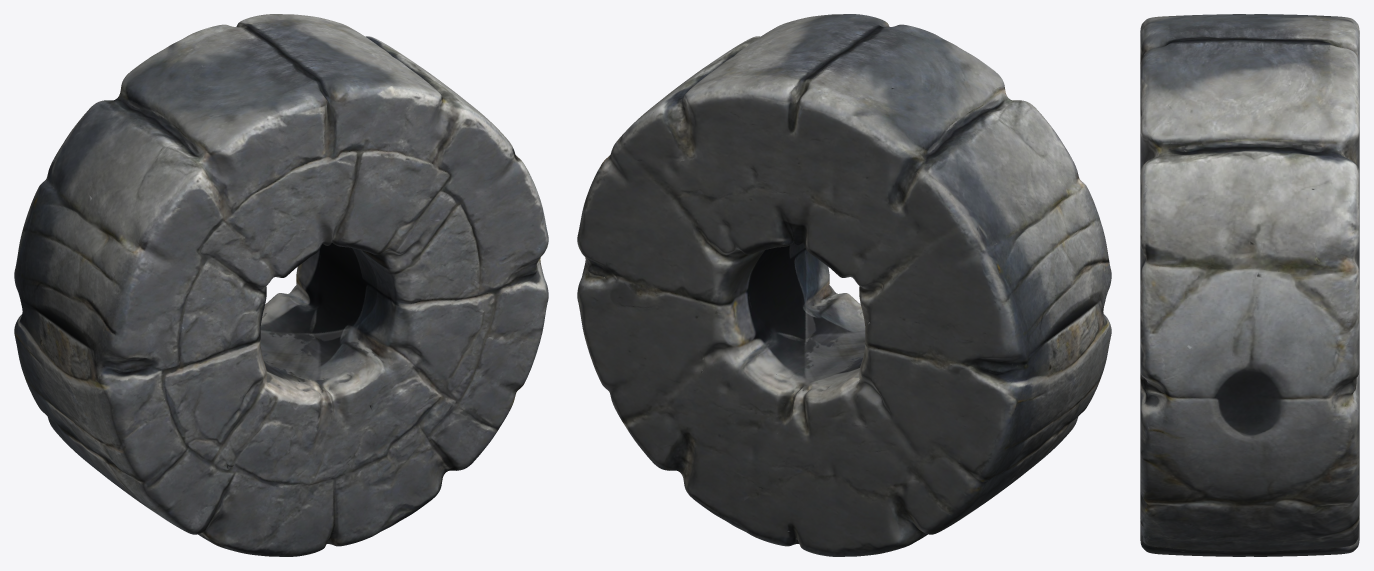
Rendered from a205_degirmen_tasi.glb.
The picture shows the model from 3 angles, left to right: view 1: azimuth 30°, elevation 25°; view 2: azimuth 150°, elevation 25°; view 3: azimuth 270°, elevation 25°; orthographic projection. The views are drawn at different scales.
Bounding box in the file's own units: 2 × 2 × 0.8075.
Materials: 1 (1 with a texture image).
